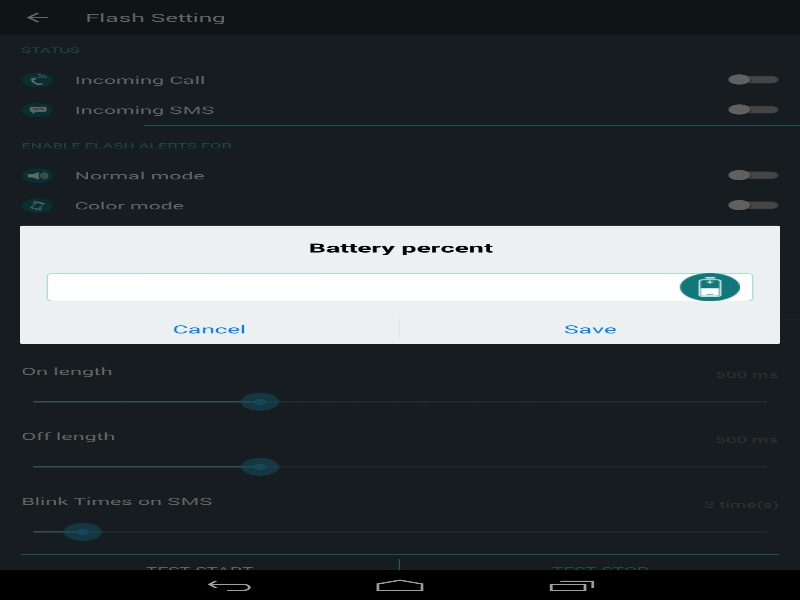Input: (46, 273, 753, 301)
